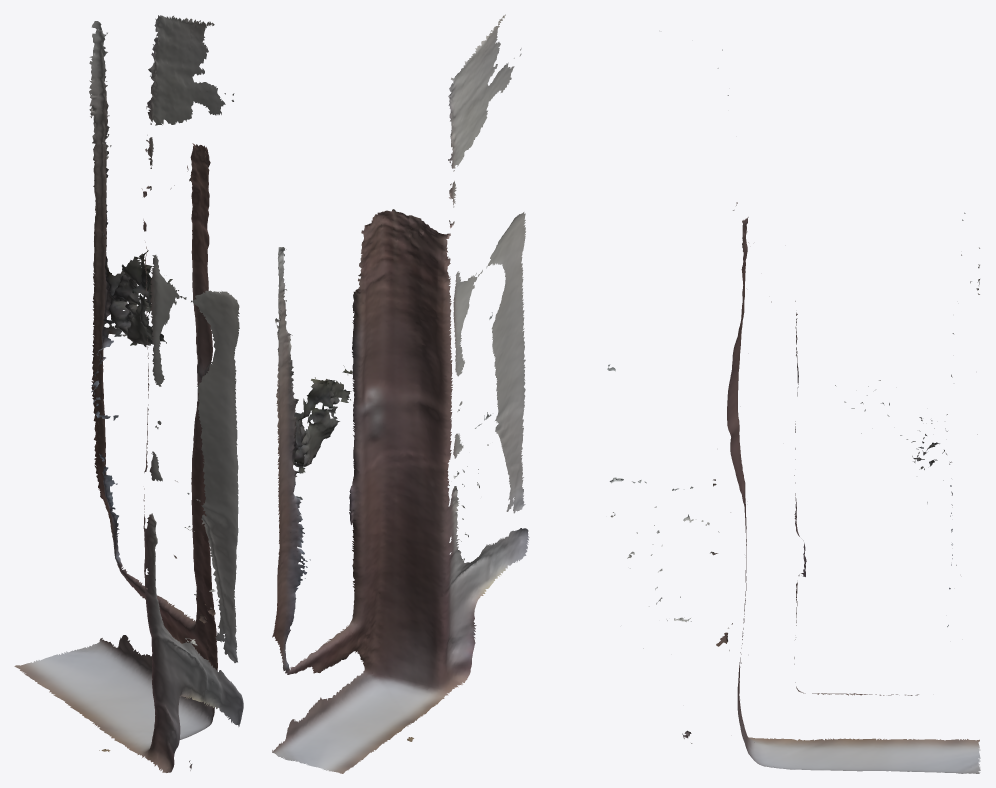
The model's file is apartment-full-121-2de26a2d887a.glb.
The picture shows the model from 3 angles, left to right: view 1: azimuth 30°, elevation 25°; view 2: azimuth 150°, elevation 25°; view 3: azimuth 270°, elevation 25°; orthographic projection. The views are drawn at different scales.
Size of the model in its own units: 0.289 by 2.46 by 1.26.
